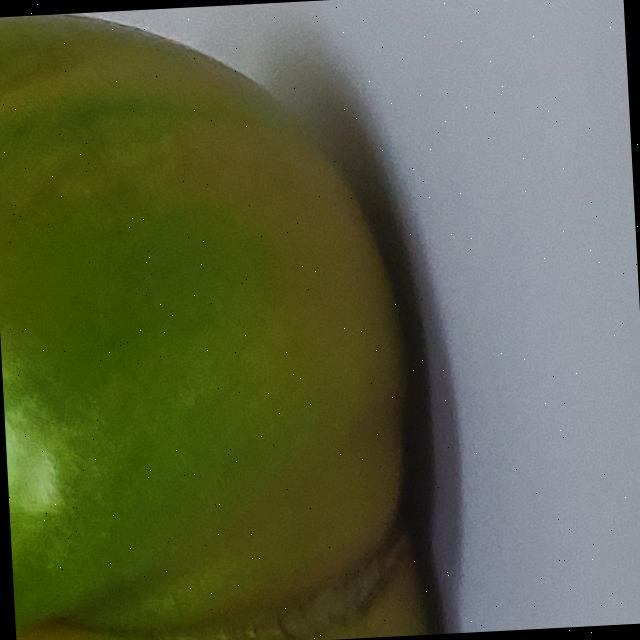tomato: (0, 0, 510, 640)
